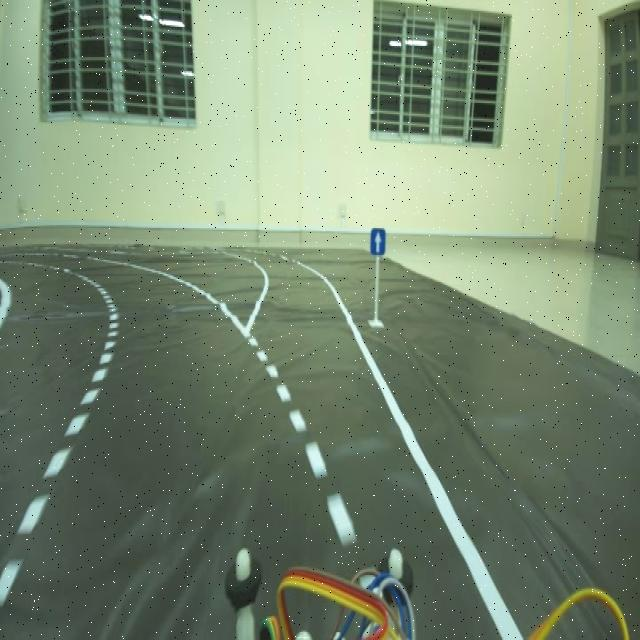onewayroad: (366, 220, 390, 260)
